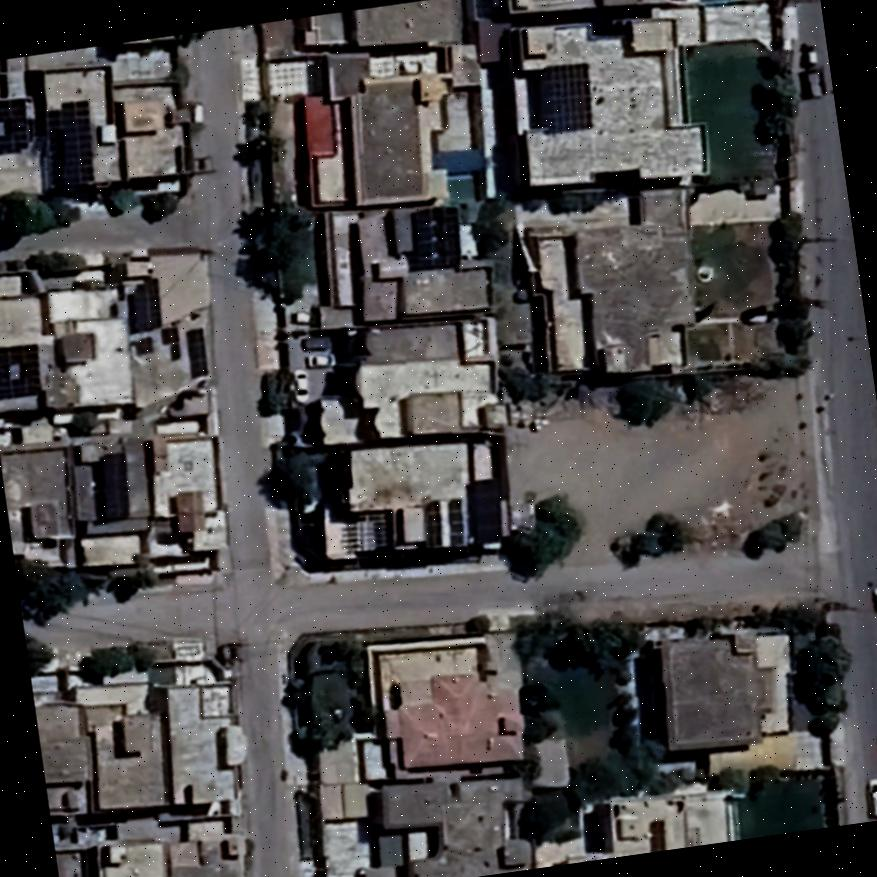Solarpanel: (42, 94, 97, 193), (533, 59, 596, 138), (404, 196, 464, 276), (91, 445, 131, 525), (464, 474, 505, 548), (0, 339, 43, 402), (127, 274, 163, 335), (0, 93, 33, 157), (182, 324, 212, 382), (420, 494, 443, 549), (446, 493, 464, 549), (157, 321, 180, 361), (131, 334, 155, 360)
